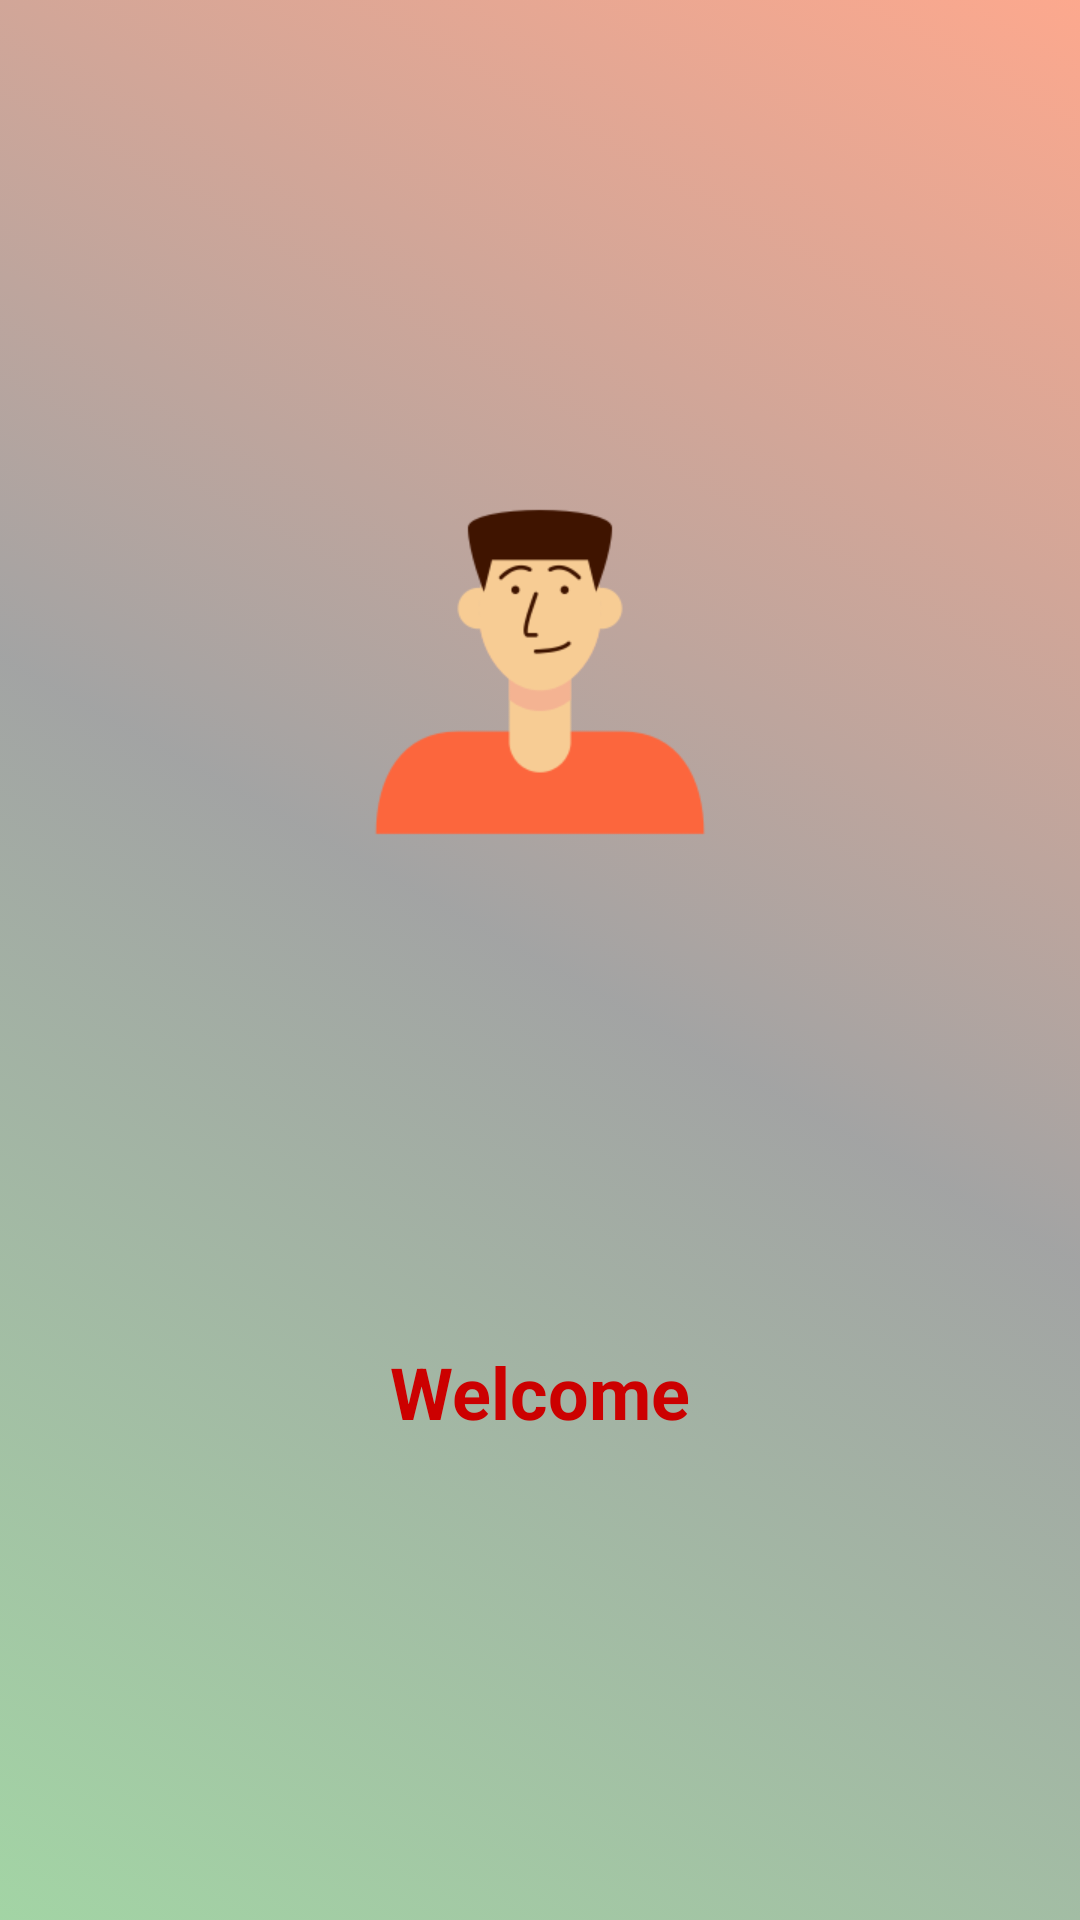

Icons on this 1080px×1920px Android screen, each with its box as (x1, y1, x2, y2):
user: (376, 480, 732, 834)
